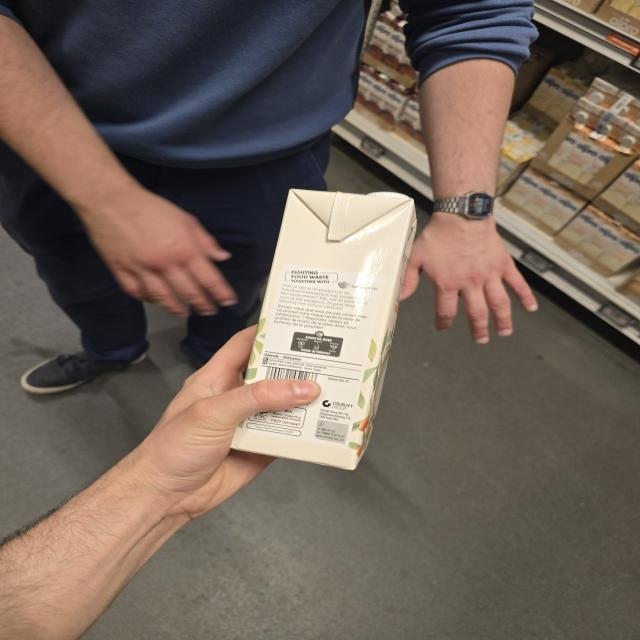Milk: (231, 189, 416, 470)
